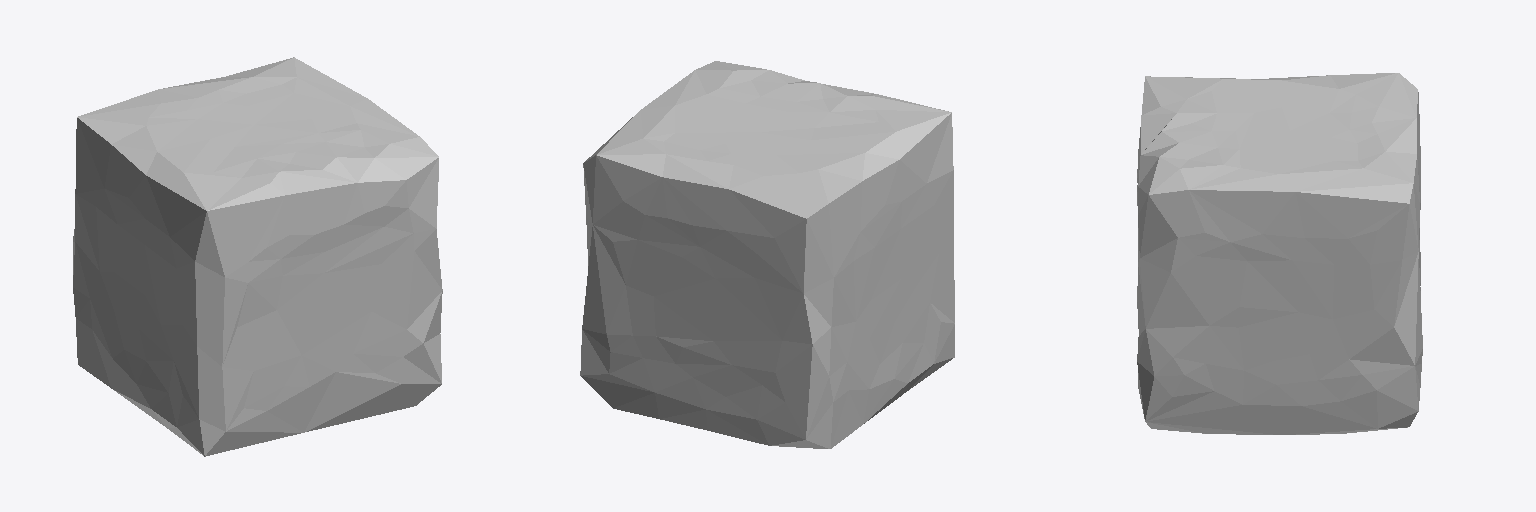
File: special block.obj
The picture shows the model from 3 angles: view 1: azimuth 30°, elevation 25°; view 2: azimuth 150°, elevation 25°; view 3: azimuth 270°, elevation 25°; orthographic projection.
Visible parts, largest first — view 1: LP_Cube.014; view 2: LP_Cube.014; view 3: LP_Cube.014.
Boxes of the visible parts, box(x1,y1,x2,y2) form: LP_Cube.014: box(73, 57, 442, 456); LP_Cube.014: box(580, 61, 954, 448); LP_Cube.014: box(1137, 73, 1422, 434).
Size of the model in its own units: 2.04 by 2.04 by 2.05.